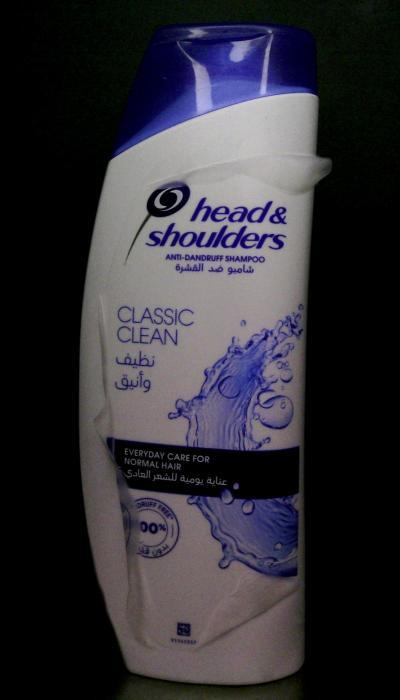adhesion_unacc: (86, 280, 154, 652), (143, 157, 335, 210), (192, 560, 300, 654)
